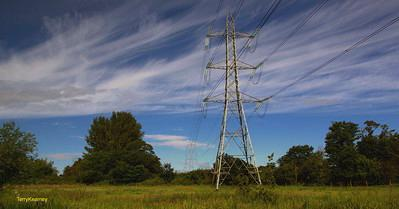power_tower: (192, 8, 278, 187)
